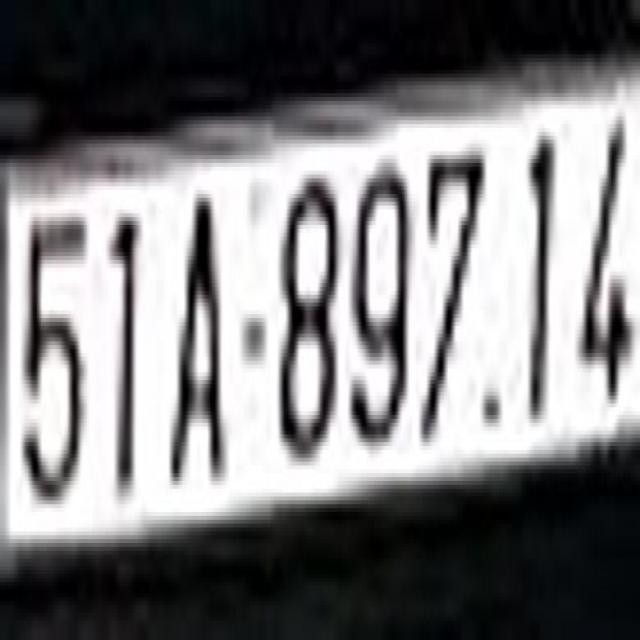1: (520, 108, 548, 426), (112, 225, 141, 489)
4: (580, 81, 632, 415)
5: (21, 202, 88, 512)
7: (418, 159, 486, 450)
8: (278, 159, 336, 465)
9: (351, 159, 406, 465)
A: (164, 174, 227, 488)
